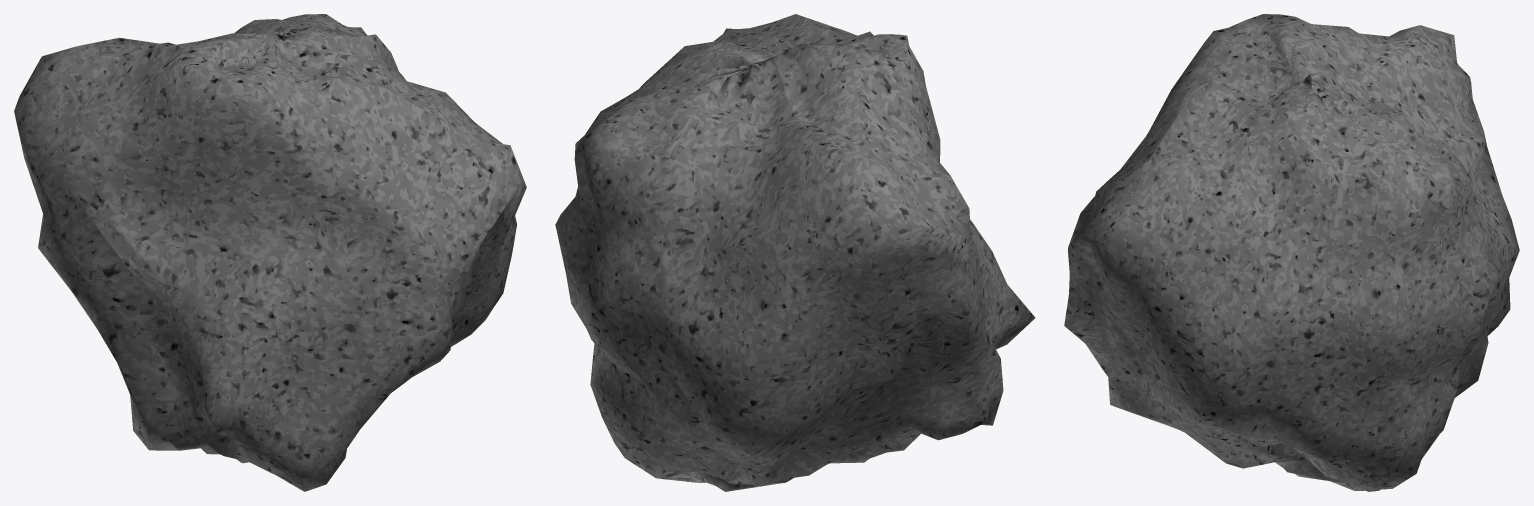
The model's file is Asteroid800B.FBX.
3 views of the same model, side by side, from view 1: azimuth 30°, elevation 25°; view 2: azimuth 150°, elevation 25°; view 3: azimuth 270°, elevation 25° (orthographic). The views are drawn at different scales.
Parts seen in each view (by area): view 1: Sphere01; view 2: Sphere01; view 3: Sphere01.
Boxes of the visible parts, x1,y1,x2,y2 form: Sphere01: (14,14,526,491); Sphere01: (555,14,1035,491); Sphere01: (1064,14,1519,491).
Bounding box in the file's own units: 108 × 108 × 107.
Materials: 1 (1 with a texture image).
